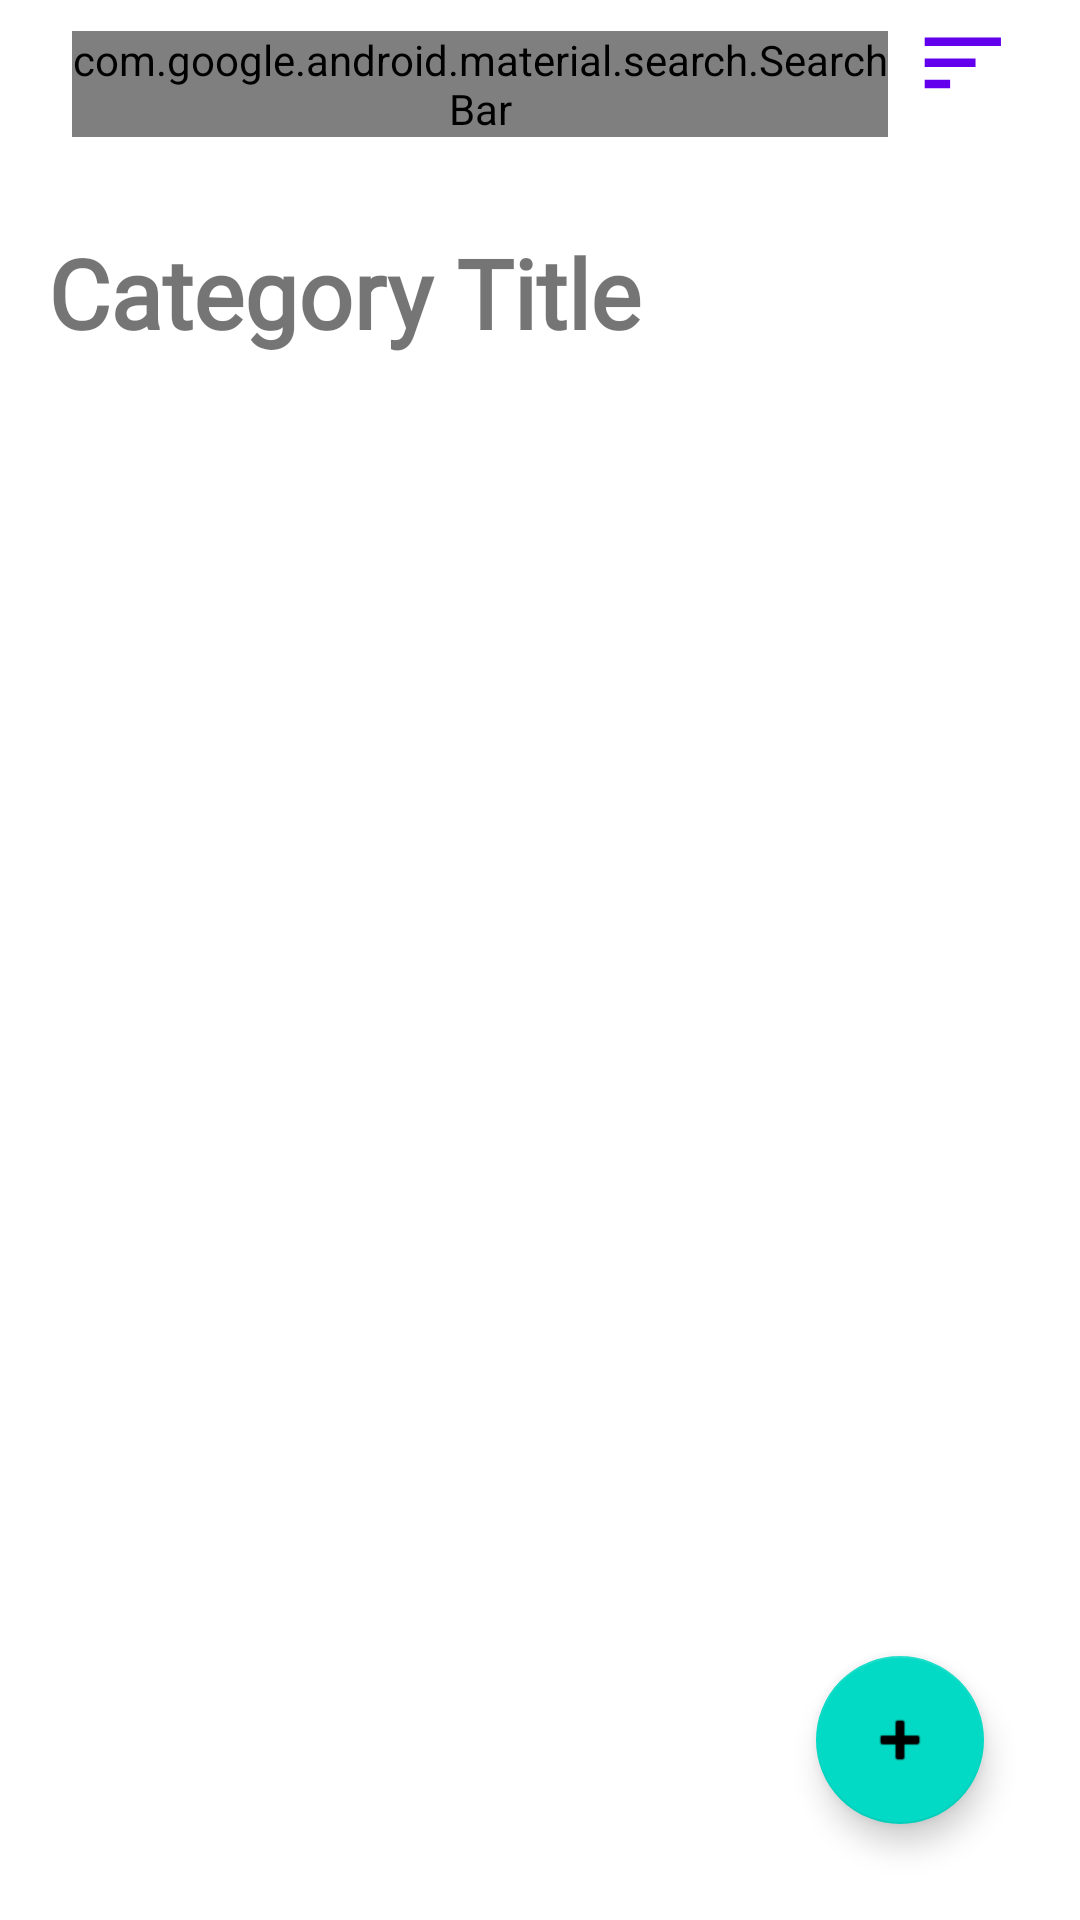

Named icons in this screenshot (1080×1920) and their centers, point (x, y):
New Task: point (900, 1740)
sort: point (962, 63)
